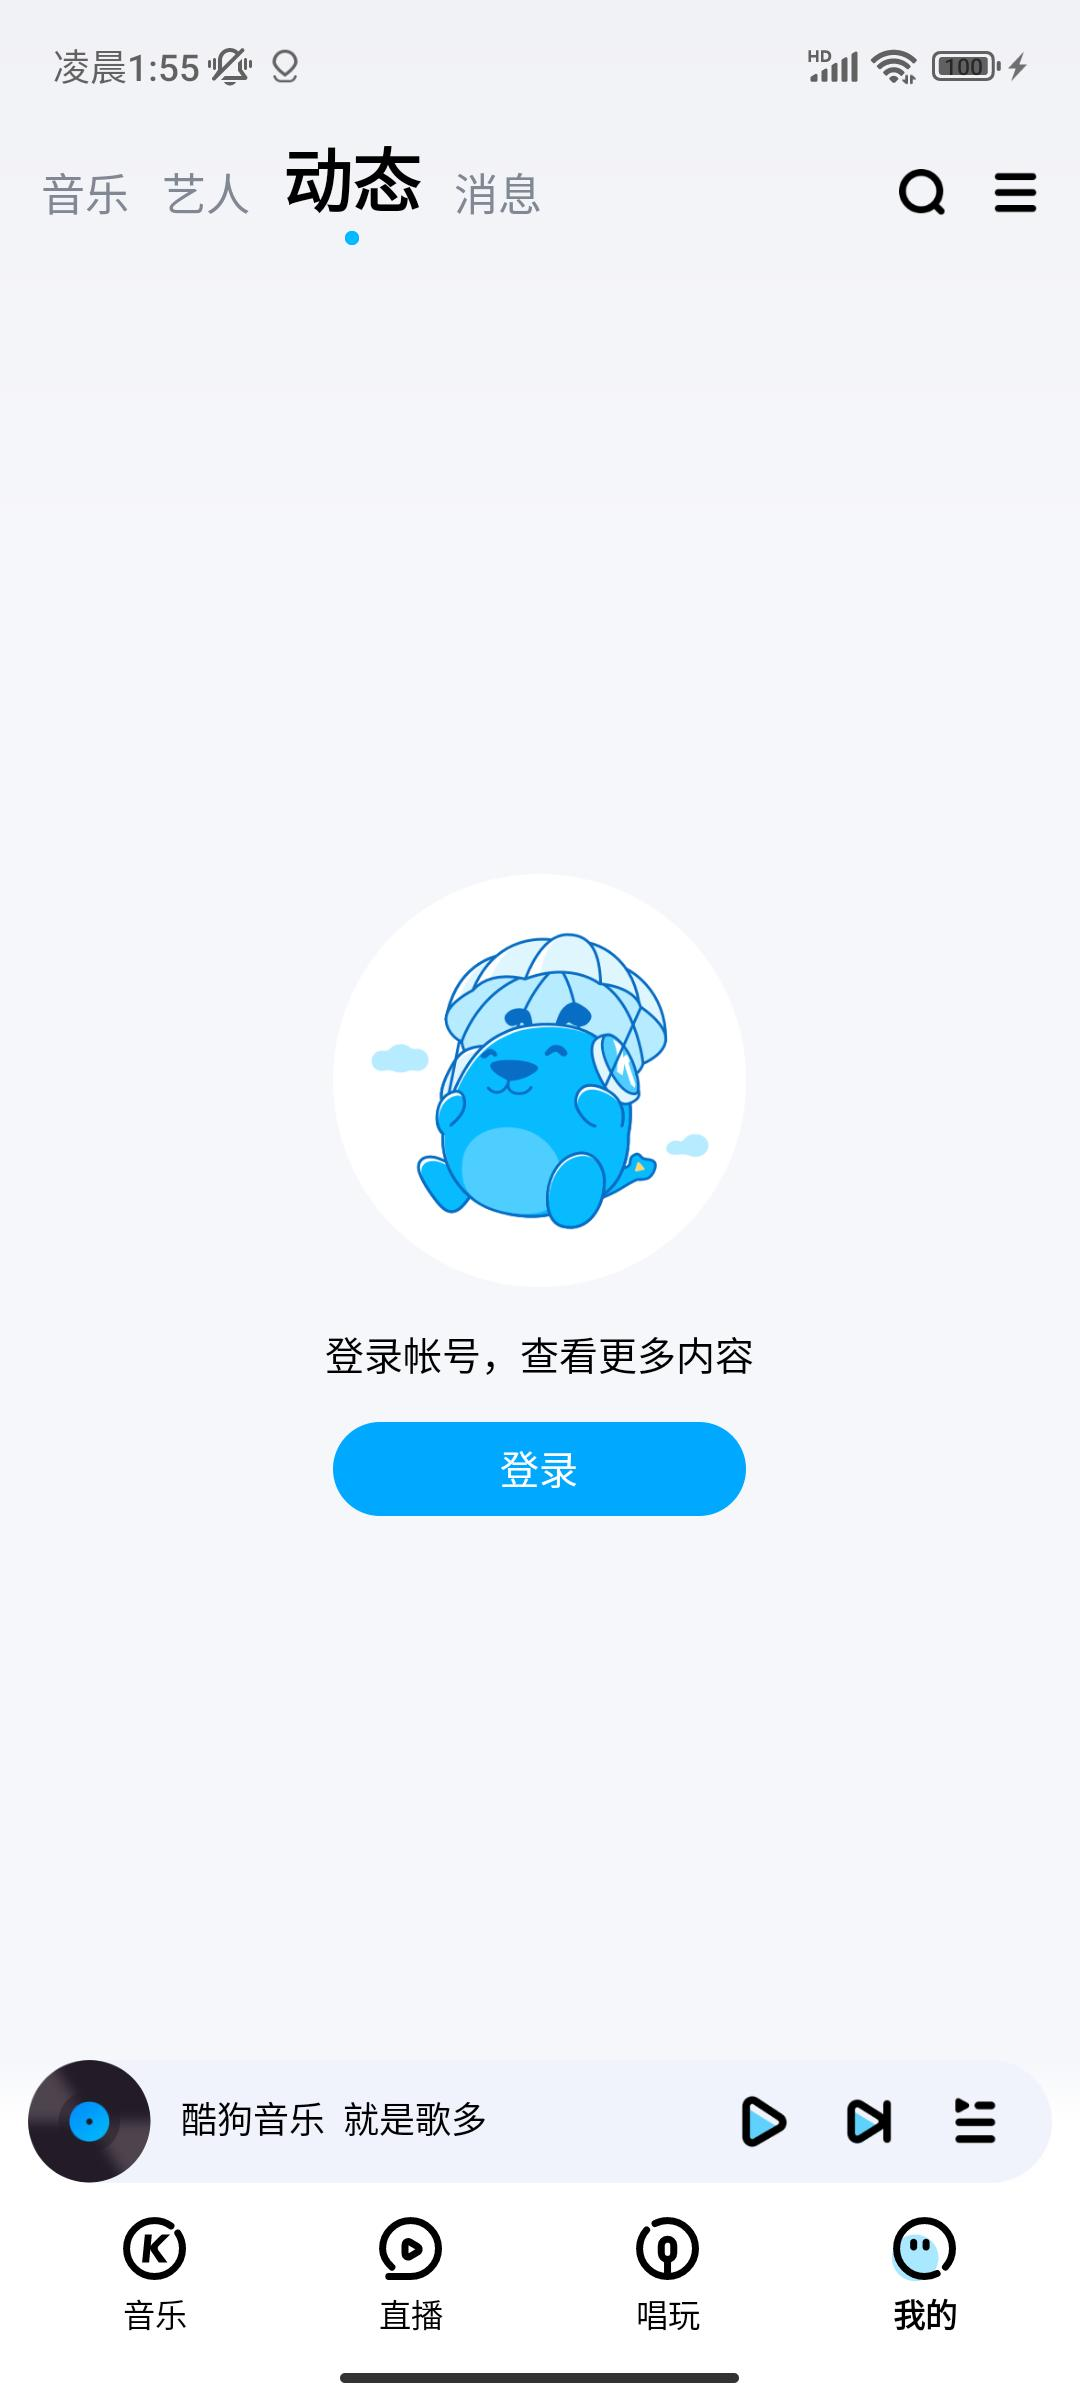ui_group: (291, 866, 805, 1537)
